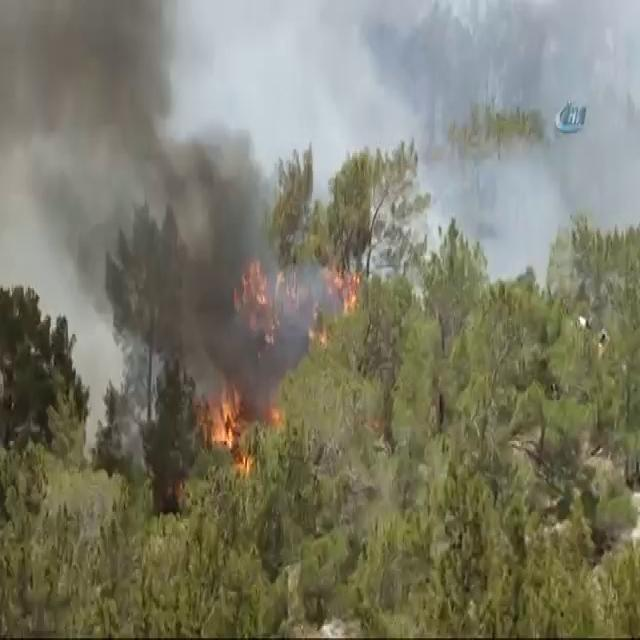Fire: (233, 257, 278, 341), (318, 254, 362, 326), (239, 372, 277, 440), (200, 386, 240, 449)
Smoke: (22, 37, 202, 359), (440, 48, 612, 242)
